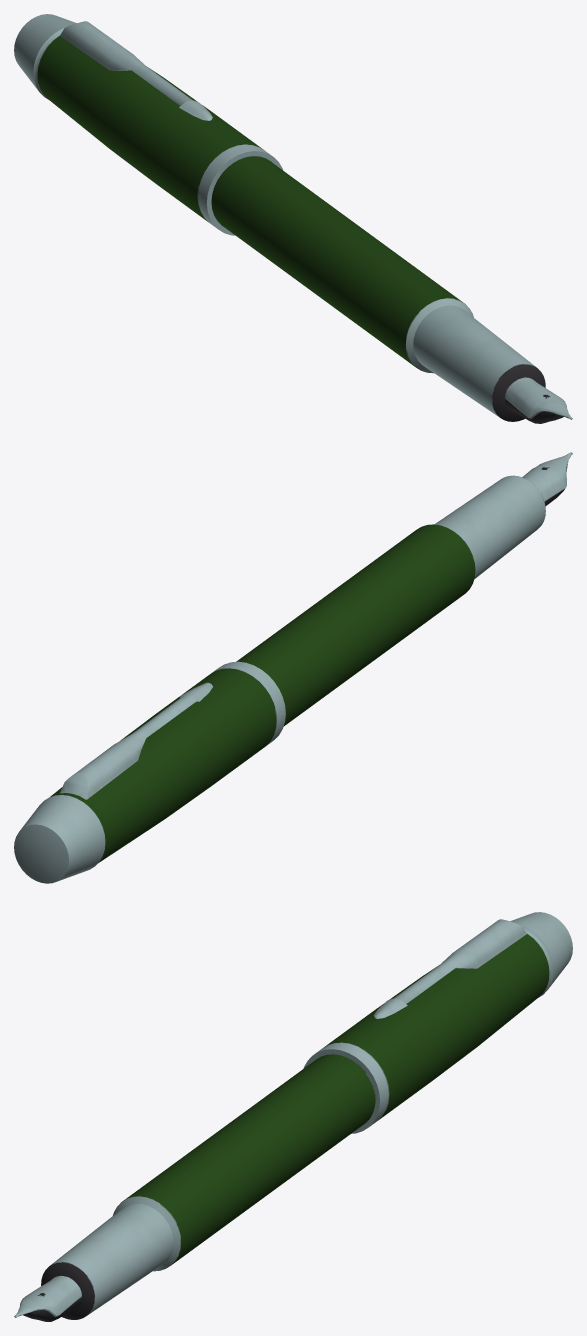
The model's file is OldPen.obj.
The picture shows the model from 3 angles, top to bottom: view 1: azimuth 30°, elevation 25°; view 2: azimuth 150°, elevation 25°; view 3: azimuth 330°, elevation 25°; orthographic projection.
Parts seen in each view (by area): view 1: Circle; view 2: Circle; view 3: Circle.
Part boxes in pixels (x1=…): Circle: x1=14, y1=14, x2=572, y2=423; Circle: x1=14, y1=452, x2=572, y2=883; Circle: x1=14, y1=912, x2=572, y2=1321.
Bounding box in the file's own units: 0.8457 × 0.9442 × 9.87.
1 material, 1 textured.
